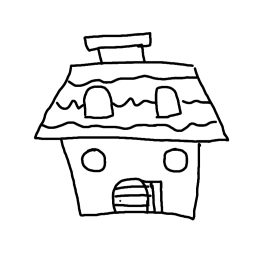chimney: (76, 21, 159, 61)
door: (107, 172, 169, 220)
open_window: (77, 143, 114, 178), (159, 144, 190, 177)
roof: (22, 55, 233, 142)
wall: (53, 137, 215, 227)
